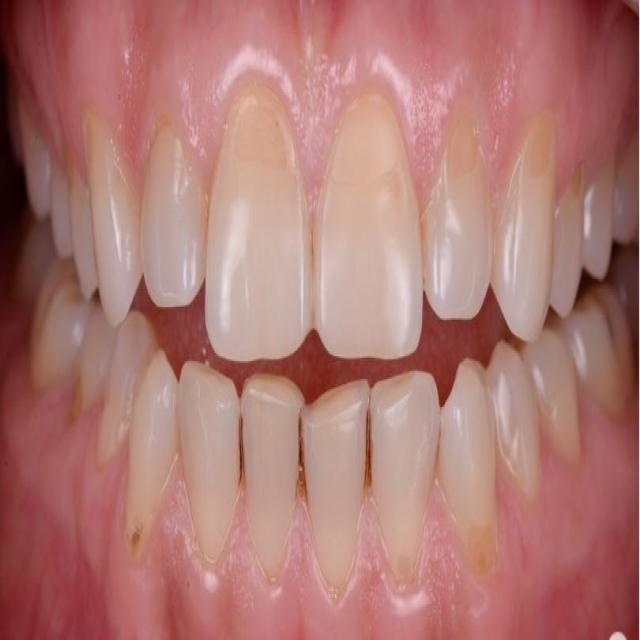1st Molar: (567, 287, 633, 417), (28, 259, 89, 389), (18, 115, 52, 218), (616, 133, 640, 248)
1st Premolar: (486, 345, 543, 504), (100, 313, 156, 461), (550, 176, 582, 317), (68, 172, 95, 300)
2nd Molar: (13, 213, 53, 312), (611, 251, 639, 336), (5, 97, 22, 149)
2nd Premolar: (526, 327, 583, 469), (77, 297, 117, 415), (582, 169, 616, 281), (48, 162, 70, 256)
Canine: (491, 112, 558, 345), (439, 354, 499, 591), (81, 113, 141, 327), (126, 346, 177, 561)
Central Incisor: (206, 94, 314, 363), (315, 97, 422, 359), (299, 379, 370, 601), (241, 376, 304, 586)
Lateral Incisor: (370, 373, 441, 594), (421, 107, 491, 323), (176, 363, 241, 569), (141, 128, 208, 309)
